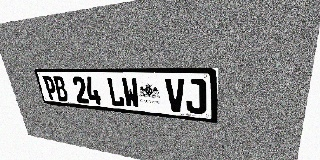2: (72, 76, 89, 104)
4: (84, 77, 102, 105)
B: (52, 76, 69, 102)
J: (185, 79, 206, 115)
L: (106, 77, 125, 107)
P: (42, 76, 59, 101)
V: (165, 78, 186, 113)
W: (121, 77, 140, 108)
